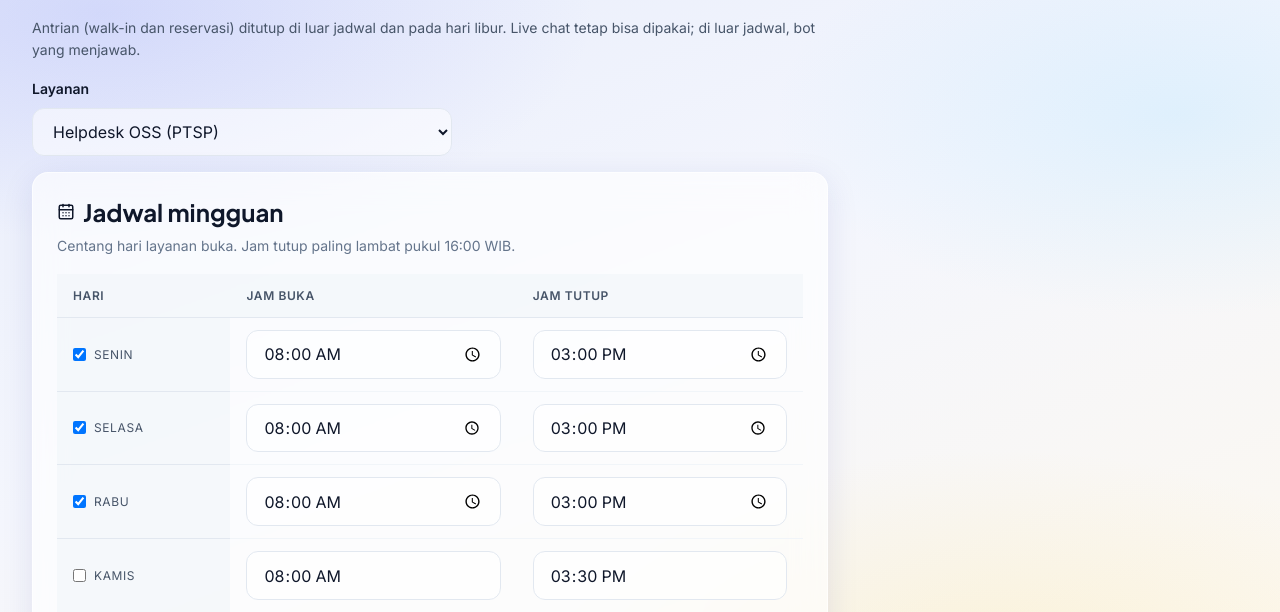
Test: admin jadwal: jadwal_standby + hari libur nasional › jam tutup lebih dari 16:00 ditolak di klien dengan pesan
The image size is (1280, 612).
Expected: the checkbox labelled "Selasa" is shown, 73,421 -> 86,434
Replace the text in the time field named "Jam tutup Selasa" with "16:30" at (660, 428), box 533,404 -> 787,452
(page scrolled)
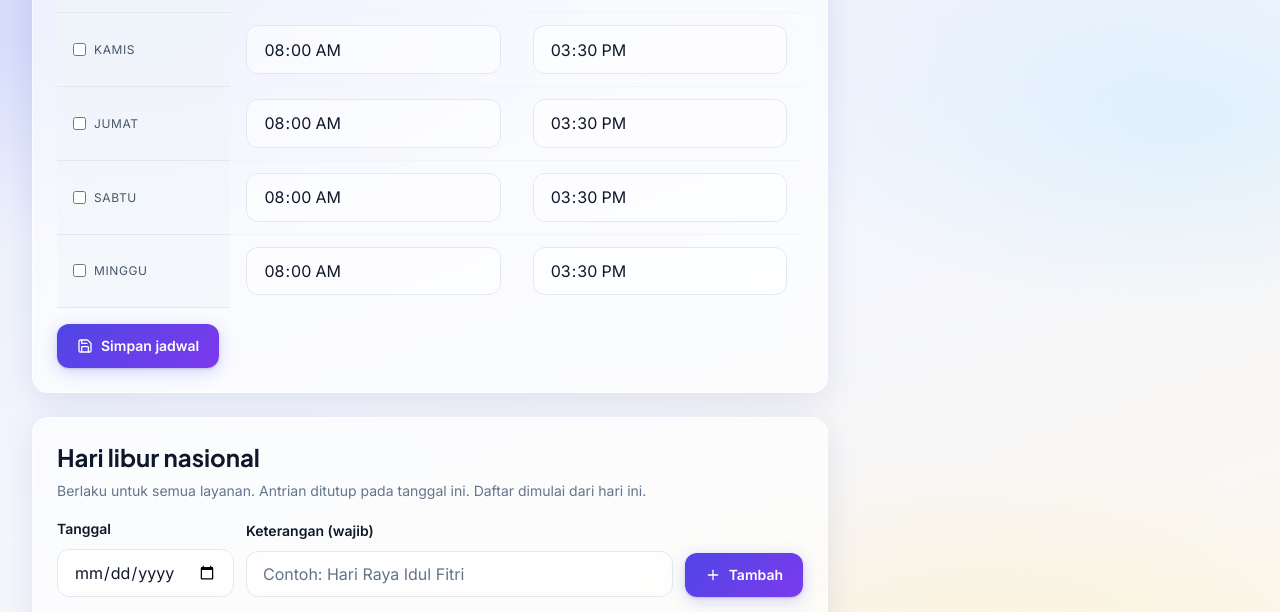
Click the button "Simpan jadwal" at (138, 346), box 57,324 -> 219,368
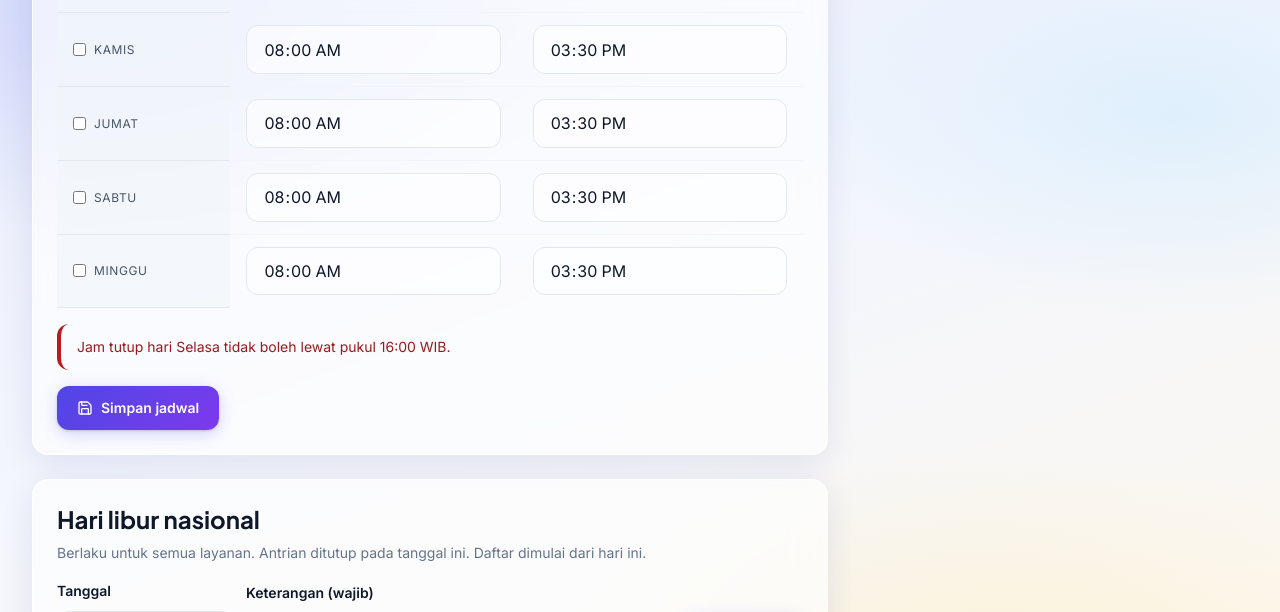
Expected: the message shows "Selasa", 77,338 -> 450,355
Expected: the message shows "16:00", 77,338 -> 450,355
